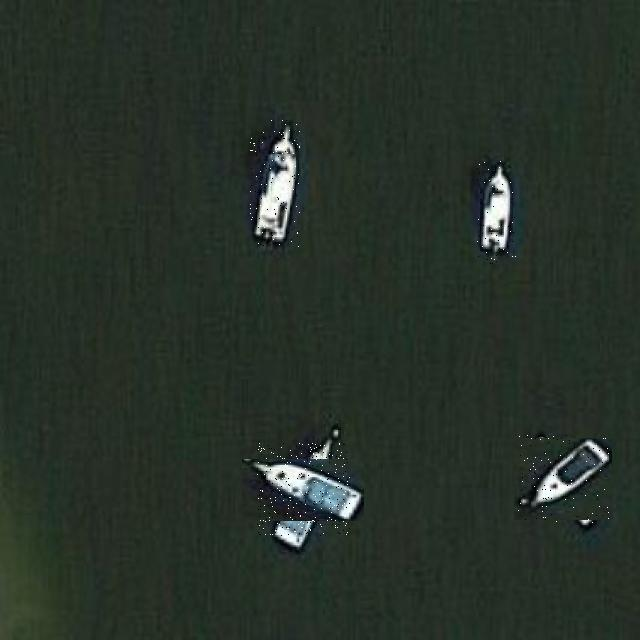boat: (257, 443, 350, 536), (518, 434, 609, 524), (250, 120, 300, 247), (477, 161, 516, 264)
